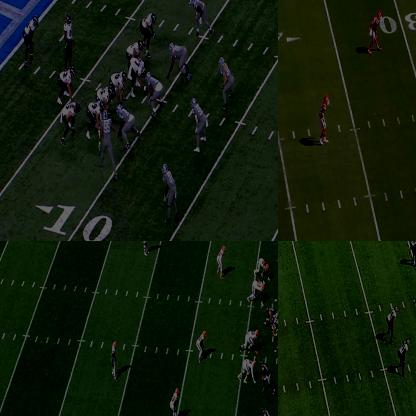CENTER: (128, 55, 148, 95), (267, 305, 277, 325)
DB: (162, 164, 177, 222), (367, 13, 382, 52), (320, 96, 330, 144), (170, 388, 182, 415), (113, 342, 118, 380), (143, 241, 153, 257), (411, 241, 415, 263)
LB: (190, 98, 208, 155), (101, 110, 115, 180), (219, 54, 235, 110), (189, 0, 208, 41), (387, 306, 397, 343), (398, 340, 409, 372), (195, 330, 206, 360), (218, 247, 226, 276)
QB: (64, 12, 75, 65)
SKILL: (62, 97, 76, 140), (26, 17, 38, 58), (58, 68, 76, 94), (86, 101, 104, 125), (262, 360, 273, 392), (264, 403, 277, 415)
